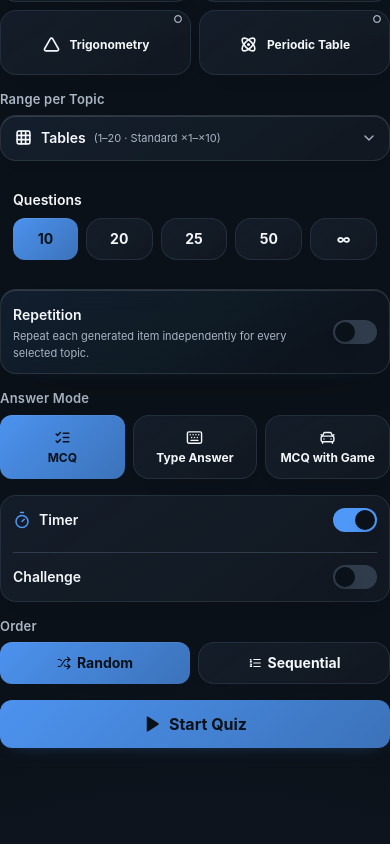
Quiz Arena MCQ with Game mode › routes external Back from the compact setup picker to the previous answer mode
The image size is (390, 844).
Later steps or results of the test are not shown.
(page scrolled)
Click the button "MCQ with Game" at (328, 447), box left=265, top=415, right=389, bottom=479
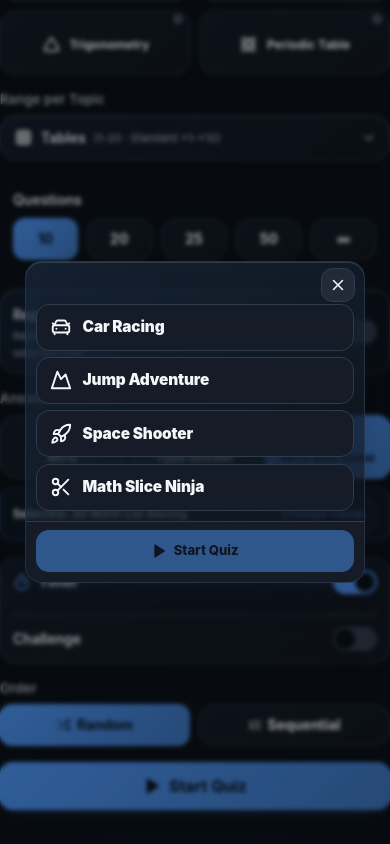
Check: the element with test id "mcq-game-selector" is shown
